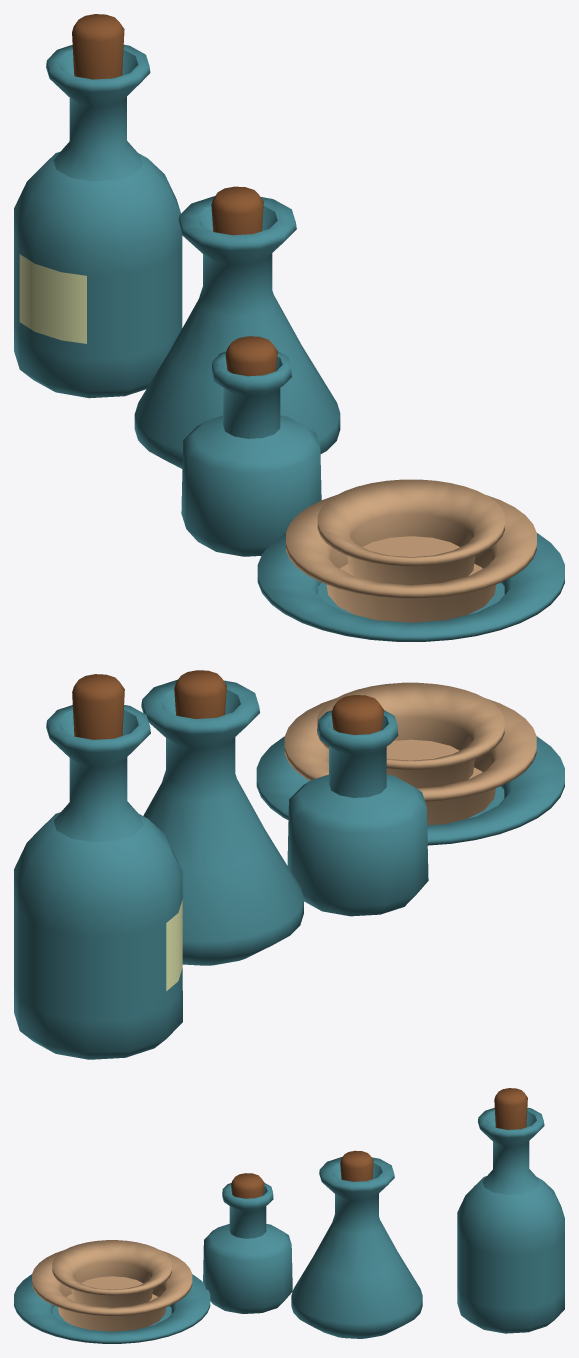
File: DI_064_store_items.glb
3 renders of one model, top to bottom at view 1: azimuth 30°, elevation 25°; view 2: azimuth 150°, elevation 25°; view 3: azimuth 270°, elevation 25°, orthographic. The views are drawn at different scales.
Parts seen in each view (by area): view 1: Bottle03.002, Bottle04.002, Bottle05.002, Plate03.002, Plate02.002, Plate.003; view 2: Bottle03.002, Bottle04.002, Bottle05.002, Plate03.002, Plate.003, Plate02.002; view 3: Bottle03.002, Bottle04.002, Bottle05.002, Plate03.002, Plate02.002, Plate.003.
Boxes of the visible parts, left/top/right/bottom form: Bottle03.002: left=14, top=14, right=182, bottom=398; Bottle04.002: left=134, top=186, right=340, bottom=468; Bottle05.002: left=181, top=336, right=321, bottom=556; Plate03.002: left=317, top=479, right=504, bottom=585; Plate02.002: left=286, top=495, right=536, bottom=622; Plate.003: left=257, top=533, right=564, bottom=641; Bottle03.002: left=14, top=674, right=182, bottom=1059; Bottle04.002: left=141, top=670, right=303, bottom=965; Bottle05.002: left=287, top=695, right=428, bottom=916; Plate03.002: left=317, top=682, right=504, bottom=788; Plate.003: left=256, top=736, right=564, bottom=845; Plate02.002: left=284, top=698, right=536, bottom=825; Bottle03.002: left=457, top=1088, right=564, bottom=1333; Bottle04.002: left=291, top=1150, right=422, bottom=1338; Bottle05.002: left=203, top=1173, right=292, bottom=1313; Plate03.002: left=52, top=1240, right=171, bottom=1307; Plate02.002: left=32, top=1250, right=192, bottom=1331; Plate.003: left=14, top=1274, right=210, bottom=1343.
Size of the model in its own units: 0.7213 by 0.8957 by 2.02.
